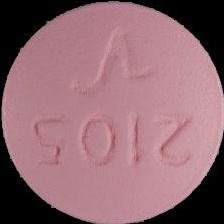55700-391: (0, 0, 224, 224)
